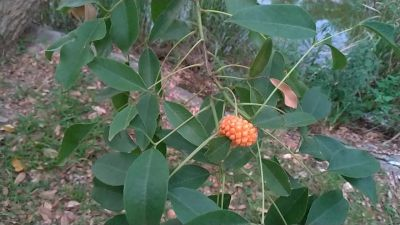eggs: (220, 112, 259, 147)
